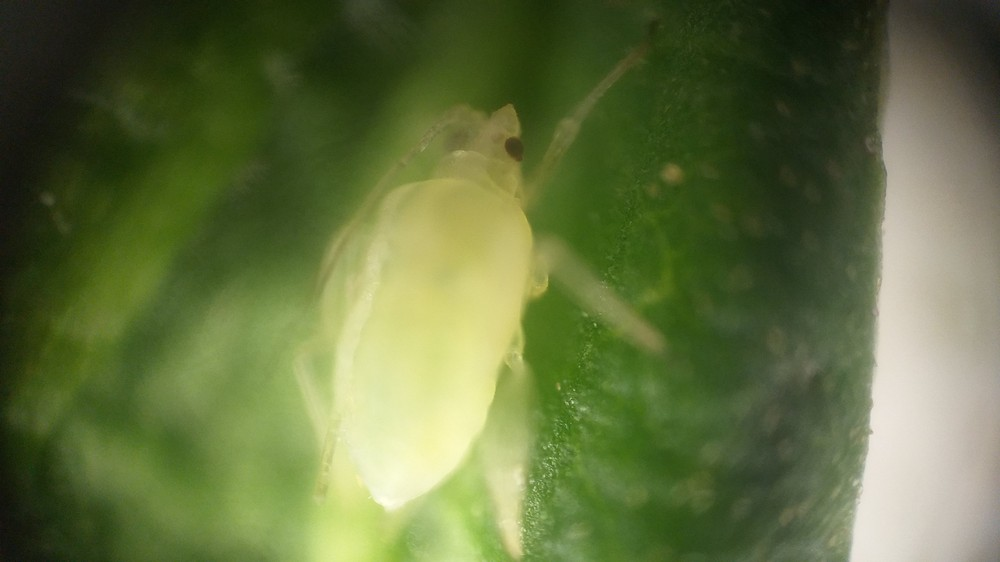Pulgon: (248, 48, 736, 555)
